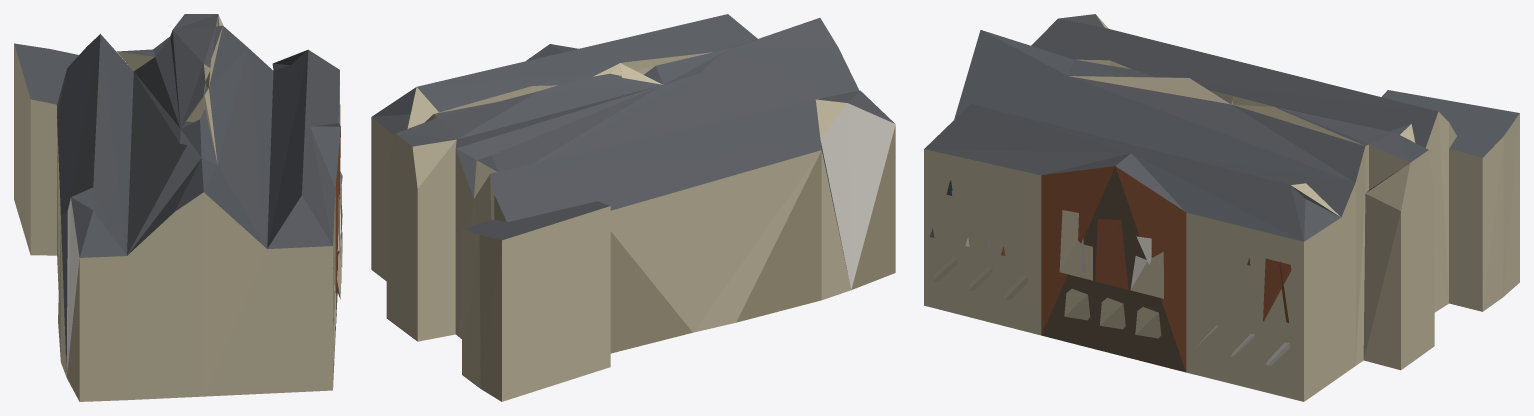
The model's file is compagnietheater.lod2.glb.
The picture shows the model from 3 angles, left to right: view 1: azimuth 30°, elevation 25°; view 2: azimuth 150°, elevation 25°; view 3: azimuth 270°, elevation 25°; orthographic projection. The views are drawn at different scales.
Visible parts, largest first — view 1: lod2; view 2: lod2; view 3: lod2.
Part boxes in pixels (x1,y1,x2,y2): lod2: [14, 14, 342, 401]; lod2: [371, 14, 895, 401]; lod2: [924, 14, 1519, 401].
Bounding box in the file's own units: 40.55 × 20.91 × 50.3.
